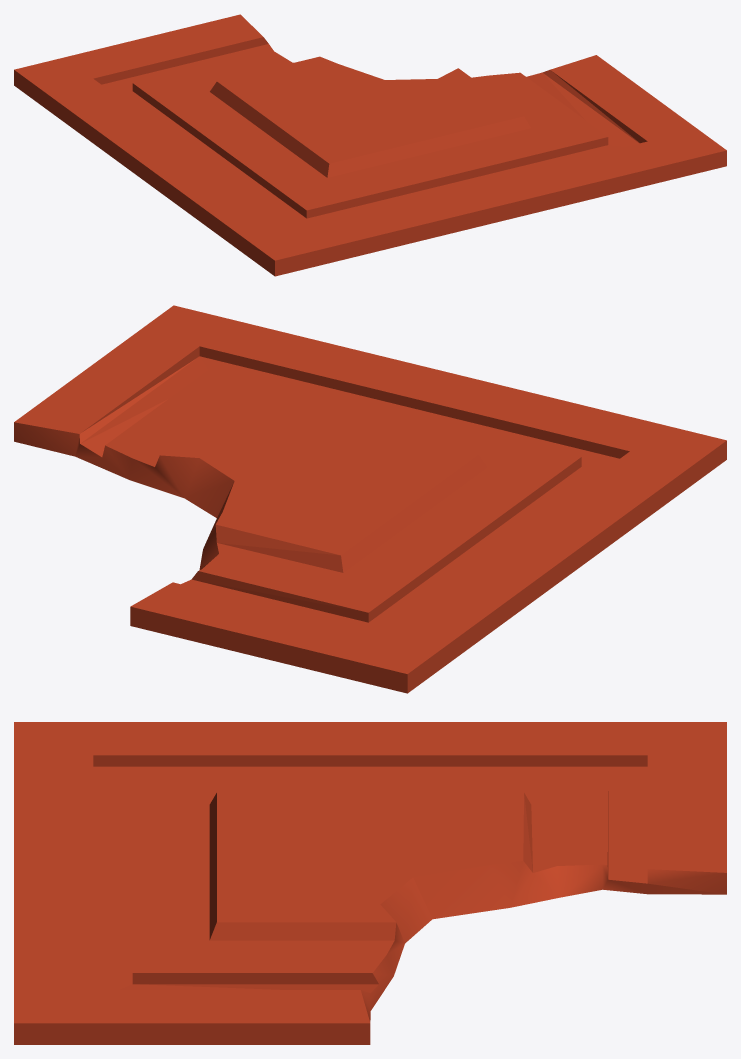
File: Ceiling-Broken2.FBX
3 renders of one model, top to bottom at view 1: azimuth 30°, elevation 25°; view 2: azimuth 150°, elevation 25°; view 3: azimuth 270°, elevation 25°, orthographic. The views are drawn at different scales.
Visible parts, largest first — view 1: Ceiling-Broken1; view 2: Ceiling-Broken1; view 3: Ceiling-Broken1.
Boxes of the visible parts, x1=… form: Ceiling-Broken1: x1=14, y1=14, x2=726, y2=276; Ceiling-Broken1: x1=14, y1=305, x2=726, y2=693; Ceiling-Broken1: x1=14, y1=722, x2=726, y2=1044.
Bounding box in the file's own units: 118 × 6.73 × 118.
